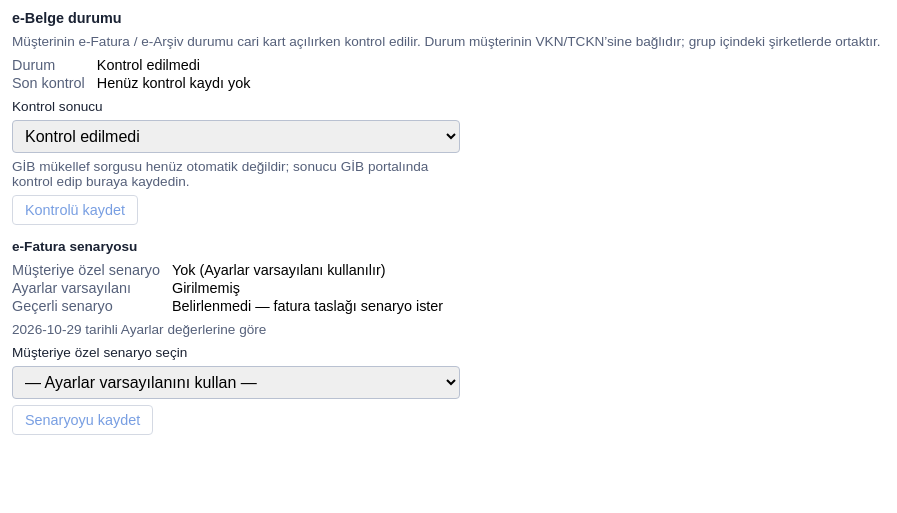
SAT-D102 e-belge panel on the Cari card › keeps the same key for an explicit retry when Settings could not be read (503)
This screenshot has width=897, height=513.
Select "CODE_A" in the dropdown labelled "Müşteriye özel senaryo seçin" at (236,382), box x1=12 y1=366 x2=460 y2=399
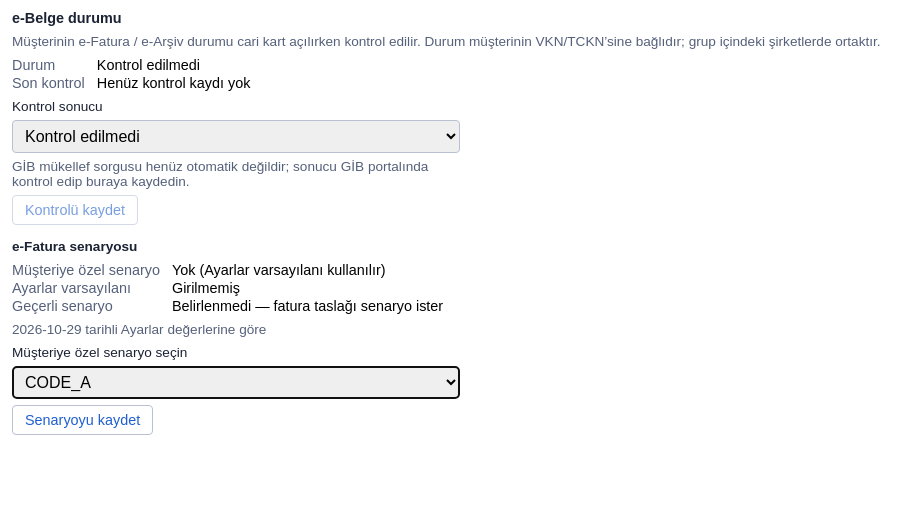
Click the button "Senaryoyu kaydet" at (83,420), box x1=12 y1=405 x2=153 y2=435
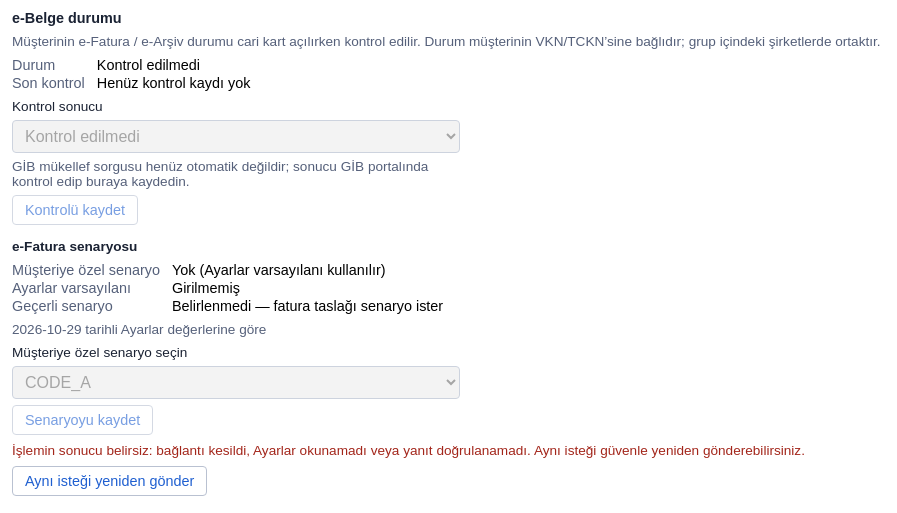
Expected: the text "İşlemin sonucu belirsiz: bağlantı kesildi, Ayarlar okunamadı veya yanıt doğrulanamadı. Aynı isteği güvenle yeniden gönde" is shown, x1=12 y1=443 x2=805 y2=458
Expected: the dropdown labelled "Müşteriye özel senaryo seçin" is disabled, x1=12 y1=366 x2=460 y2=399
Click the button "Aynı isteği yeniden gönder" at (110,481), box x1=12 y1=466 x2=207 y2=496
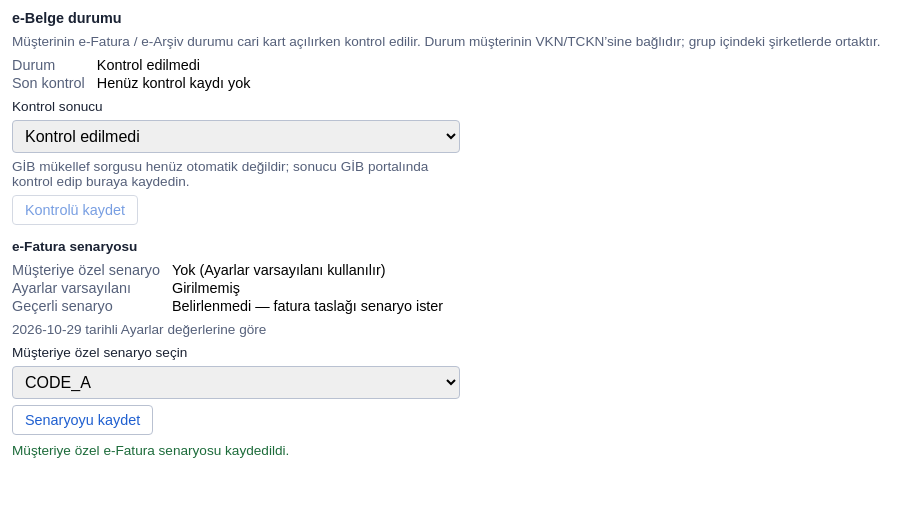
Expected: the text "Müşteriye özel e-Fatura senaryosu kaydedildi." is shown, x1=12 y1=443 x2=289 y2=458
